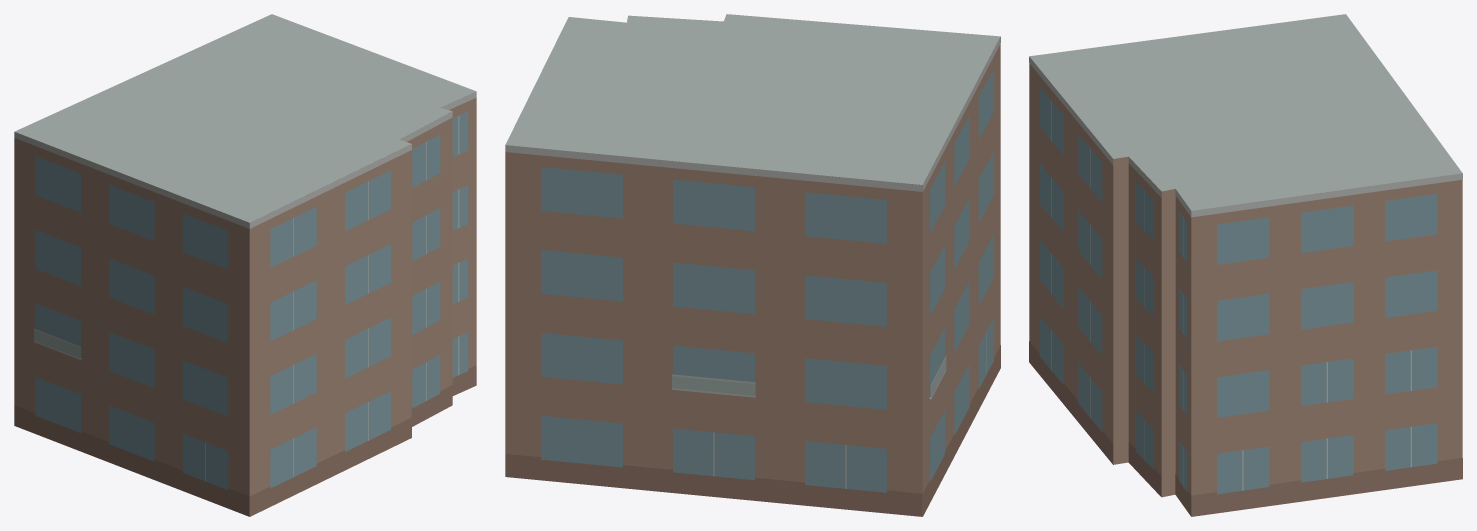
File: survey-upis-32618458.glb
The picture shows the model from 3 angles, left to right: view 1: azimuth 30°, elevation 25°; view 2: azimuth 150°, elevation 25°; view 3: azimuth 270°, elevation 25°; orthographic projection. The views are drawn at different scales.
Parts seen in each view (by area): view 1: survey-upis-32618458.tmp; view 2: survey-upis-32618458.tmp; view 3: survey-upis-32618458.tmp.
Boxes of the visible parts, bbox=[...] form: survey-upis-32618458.tmp: bbox=[14, 14, 476, 516]; survey-upis-32618458.tmp: bbox=[505, 14, 1000, 516]; survey-upis-32618458.tmp: bbox=[1029, 14, 1462, 516].
Size of the model in its own units: 16.17 by 11.7 by 15.04.
